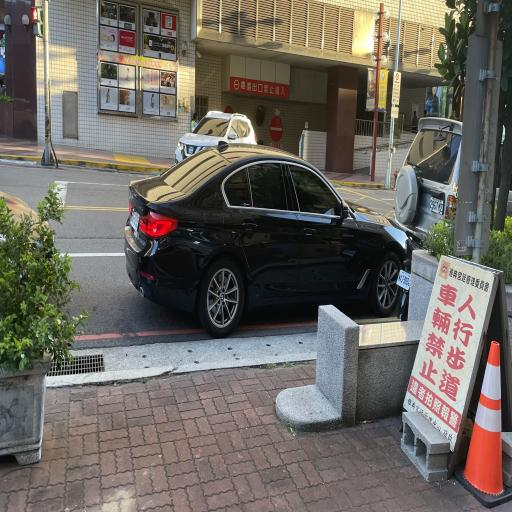MIU: (116, 248, 250, 346)
car: (114, 120, 400, 331)
redline: (52, 312, 334, 352)
